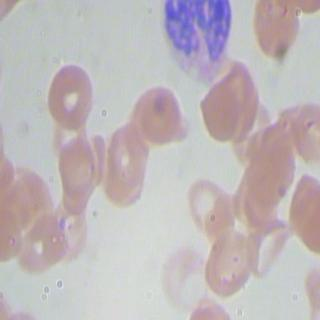RBC: (199, 222, 258, 304), (12, 206, 71, 284), (101, 116, 147, 212), (157, 238, 209, 318), (44, 58, 96, 136), (132, 76, 184, 154), (242, 130, 293, 208), (54, 130, 102, 204), (195, 78, 243, 152), (188, 166, 235, 240), (248, 0, 302, 64), (285, 168, 320, 260), (247, 216, 294, 284), (9, 156, 51, 228), (289, 96, 320, 164)
WBC: (155, 0, 235, 84)
